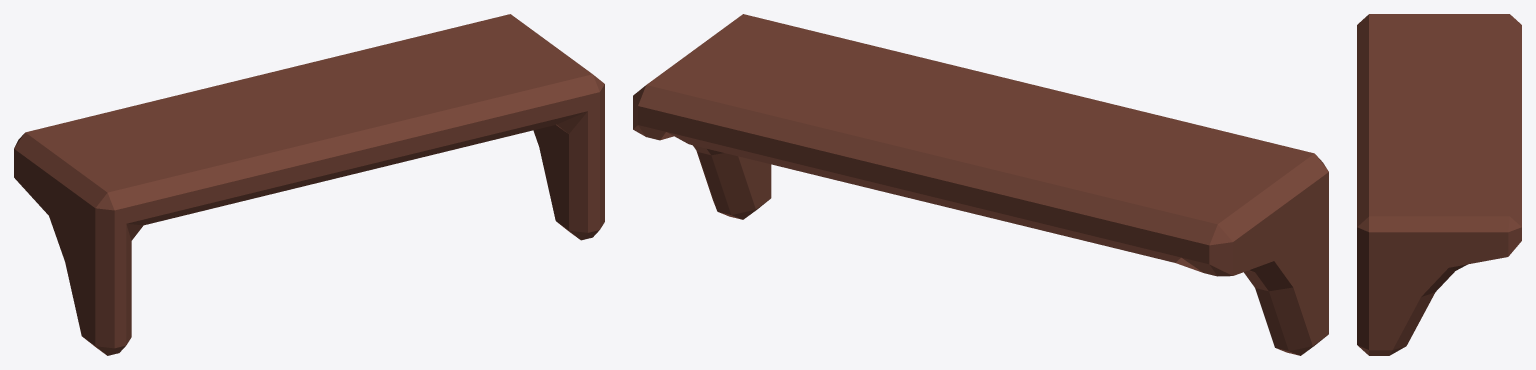
File: VensterBank-1.glb
The picture shows the model from 3 angles, left to right: view 1: azimuth 30°, elevation 25°; view 2: azimuth 150°, elevation 25°; view 3: azimuth 270°, elevation 25°; orthographic projection. The views are drawn at different scales.
Parts seen in each view (by area): view 1: Vensterbank-col.001; view 2: Vensterbank-col.001; view 3: Vensterbank-col.001.
Boxes of the visible parts, box(x1,y1,x2,y2) form: Vensterbank-col.001: box(14, 14, 604, 355); Vensterbank-col.001: box(633, 14, 1328, 355); Vensterbank-col.001: box(1357, 14, 1521, 355).
Size of the model in its own units: 1.03 by 0.3167 by 0.3386.
